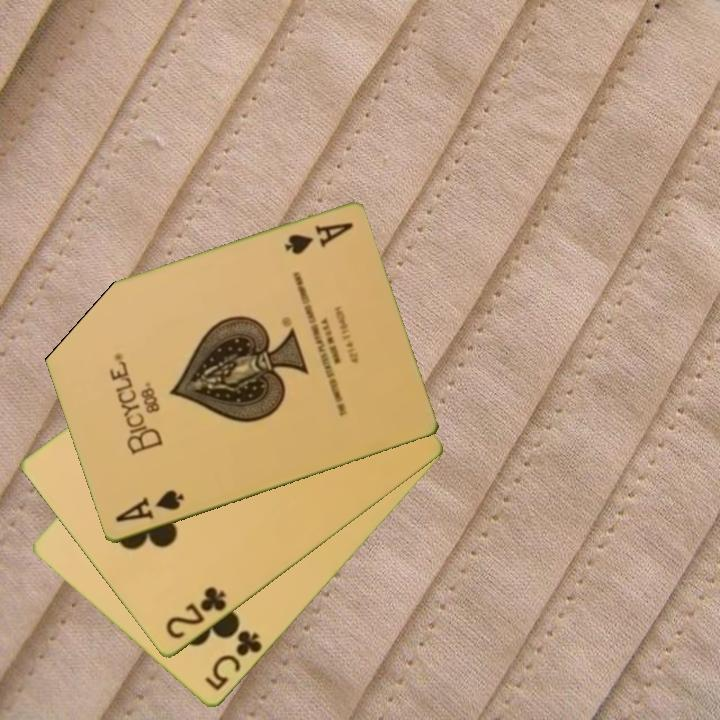2c: (161, 583, 230, 643)
5c: (201, 627, 265, 695)
As: (111, 486, 187, 526), (280, 219, 356, 258)
